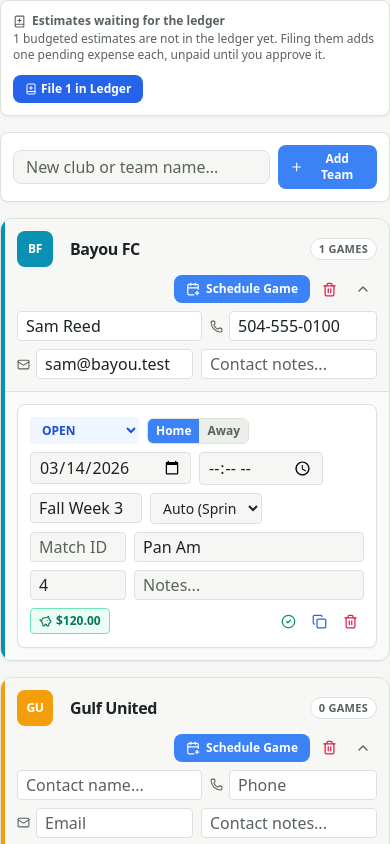
MatchupPlanner team cards › keeps the expected-cost editor and the ledger bulk bar
The width and height of the screenshot is (390, 844).
Expected: the button "File 1 in Ledger" is shown, [13,75,143,103]
Click the button "$120.00" at (70, 621), box [30,608,110,634]
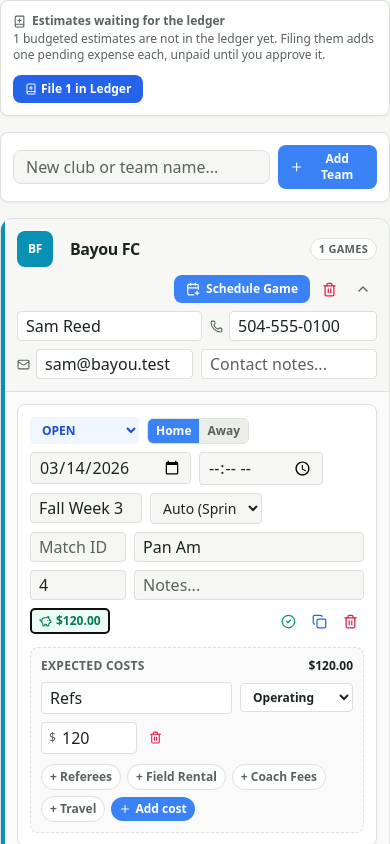
Now the field showing "Refs" below "Expected Costs" is shown, box [41,682,232,714]
